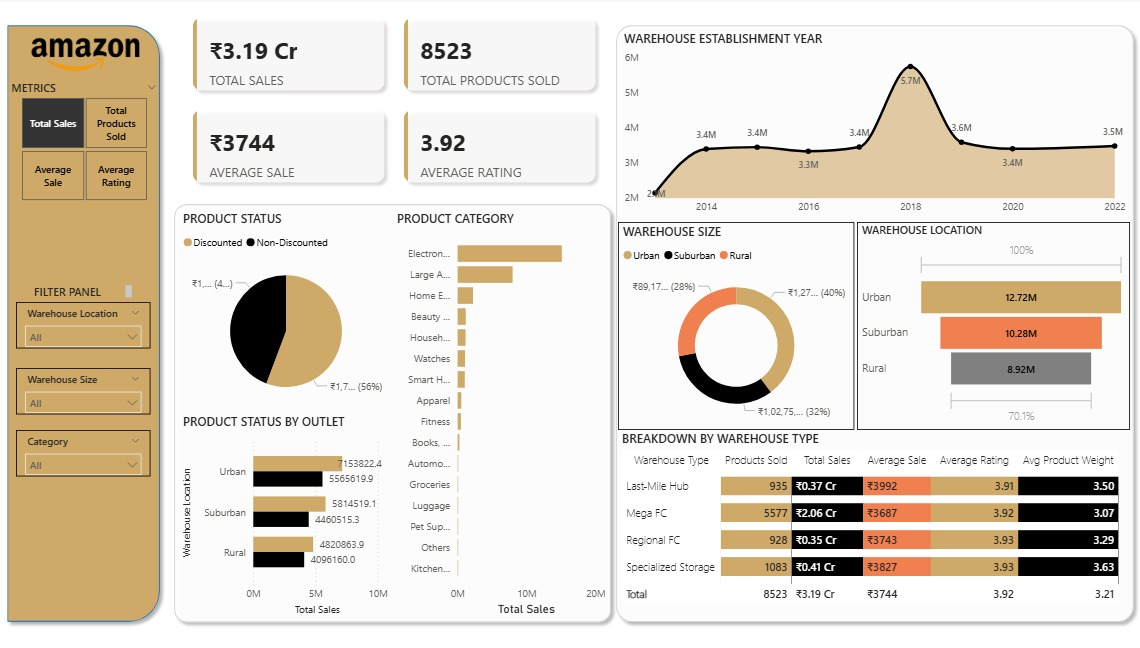

What the dashboard file says about the page in this screenshot:
{"tool":"powerbi","page":{"name":"Page 1","canvas":[1400,800],"ordinal":0},"visuals":[{"type":"shape","box":[0,24.9,205,749.7],"z":0},{"type":"image","box":[0,39.6,205.1,58],"z":1000},{"type":"cardVisual","fields":{"Data":["Sheet 1 - FINAL FILE.Total Sales","Sheet 1 - FINAL FILE.Total Products Sold","Sheet 1 - FINAL FILE.Average Sale","Sheet 1 - FINAL FILE.Average Rating"]},"box":[219.3,6.8,528,236.9],"z":2000},{"type":"shape","box":[204.4,243.7,553.8,530.8],"z":3000},{"type":"pieChart","title":"PRODUCT STATUS","fields":{"Y":["Sheet 1 - FINAL FILE.Overall Sales"],"Category":["Sheet 1 - FINAL FILE.Product Status"]},"box":[219.3,260,262.7,249.1],"z":4000},{"type":"slicer","fields":{"Values":["Metrics.Metrics"]},"box":[1.4,97.5,203.1,158.4],"z":5000},{"type":"clusteredBarChart","title":"PRODUCT STATUS BY LOCATION","fields":{"Y":["Sheet 1 - FINAL FILE.Overall Sales"],"Category":["Sheet 1 - FINAL FILE.Warehouse Location"],"Series":["Sheet 1 - FINAL FILE.Product Status"]},"box":[219.3,509.1,262.7,253.2],"z":6000},{"type":"barChart","title":"PRODUCT CATEGORY","fields":{"Y":["Sheet 1 - FINAL FILE.Overall Sales"],"Category":["Sheet 1 - FINAL FILE.Category"]},"box":[482,260,265.4,502.3],"z":7000},{"type":"shape","box":[747.4,24.4,652.6,750.1],"z":8000},{"type":"lineChart","title":"WAREHOUSE ESTABLISHMENT YEAR","fields":{"Y":["Sheet 1 - FINAL FILE.Overall Sales"],"Category":["Sheet 1 - FINAL FILE.Warehouse Establishment Year"]},"box":[761,39.2,625,235.4],"z":9000},{"type":"donutChart","title":"WAREHOUSE SIZE","fields":{"Y":["Sheet 1 - FINAL FILE.Overall Sales"],"Category":["Sheet 1 - FINAL FILE.Warehouse Size"]},"box":[758.2,274.7,290.1,255.1],"z":10000},{"type":"funnel","title":"LOCATION TYPE","fields":{"Category":["Sheet 1 - FINAL FILE.Warehouse Location"],"Y":["Sheet 1 - FINAL FILE.Overall Sales"]},"box":[1051.1,274.7,334.9,255.1],"z":11000},{"type":"pivotTable","title":"BREAKDOWN BY WAREHOUSE TYPE","fields":{"Rows":["Sheet 1 - FINAL FILE.Warehouse Type"],"Values":["Sheet 1 - FINAL FILE.Products Sold","Sheet 1 - FINAL FILE.Total Sales","Sheet 1 - FINAL FILE.Average Sale","Sheet 1 - FINAL FILE.Average Rating","Avg(Sheet 1 - FINAL FILE.Product Weight)"]},"box":[758.2,529.7,626.4,232.6],"z":12000},{"type":"slicer","fields":{"Values":["Sheet 1 - FINAL FILE.Warehouse Location"]},"box":[19.6,372.8,165.4,57.5],"z":13000},{"type":"slicer","fields":{"Values":["Sheet 1 - FINAL FILE.Warehouse Size"]},"box":[19.6,454.1,165.4,57.5],"z":14000},{"type":"slicer","fields":{"Values":["Sheet 1 - FINAL FILE.Category"]},"box":[19.6,529.7,165.4,57.5],"z":15000},{"type":"textbox","box":[19,348,130,24.4],"z":16000},{"type":"image","box":[58.8,635.1,84.8,76.1],"z":17000}]}

Visuals, with their boxes in screenshot pixels (x1, y1, x2, y2), scaled from the page's 1400x800 canvas onto the 1140x648 screenshot:
shape: locate(0, 20, 167, 627)
image: locate(0, 32, 167, 79)
cardVisual - Sheet 1 - FINAL FILE.Total Sales x Sheet 1 - FINAL FILE.Total Products Sold: locate(179, 6, 609, 197)
shape: locate(166, 197, 617, 627)
"PRODUCT STATUS" pieChart: locate(179, 211, 392, 412)
slicer - Metrics.Metrics: locate(1, 79, 167, 207)
"PRODUCT STATUS BY LOCATION" clusteredBarChart: locate(179, 412, 392, 617)
"PRODUCT CATEGORY" barChart: locate(392, 211, 609, 617)
shape: locate(609, 20, 1139, 627)
"WAREHOUSE ESTABLISHMENT YEAR" lineChart: locate(620, 32, 1129, 222)
"WAREHOUSE SIZE" donutChart: locate(617, 223, 854, 429)
"LOCATION TYPE" funnel: locate(856, 223, 1129, 429)
"BREAKDOWN BY WAREHOUSE TYPE" pivotTable: locate(617, 429, 1127, 617)
slicer - Sheet 1 - FINAL FILE.Warehouse Location: locate(16, 302, 151, 349)
slicer - Sheet 1 - FINAL FILE.Warehouse Size: locate(16, 368, 151, 414)
slicer - Sheet 1 - FINAL FILE.Category: locate(16, 429, 151, 476)
textbox: locate(15, 282, 121, 302)
image: locate(48, 514, 117, 576)
